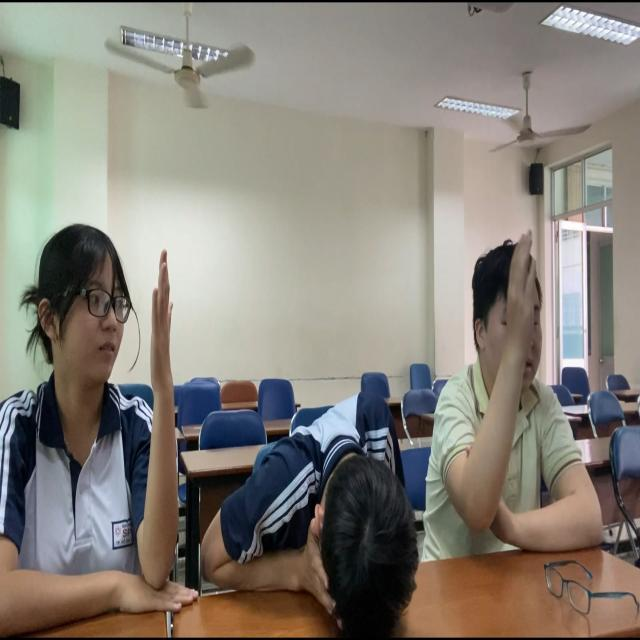raise_hand: (1, 164, 213, 640), (431, 209, 607, 597)
sleep: (202, 389, 441, 633)
